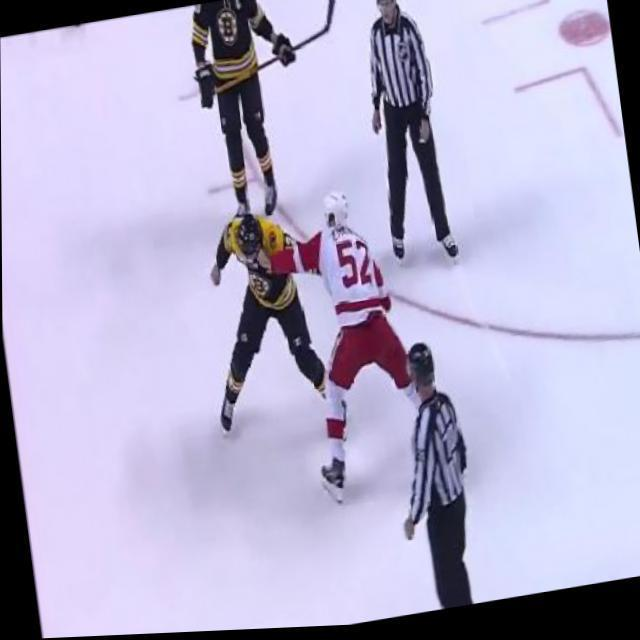fight: (195, 186, 417, 526)
